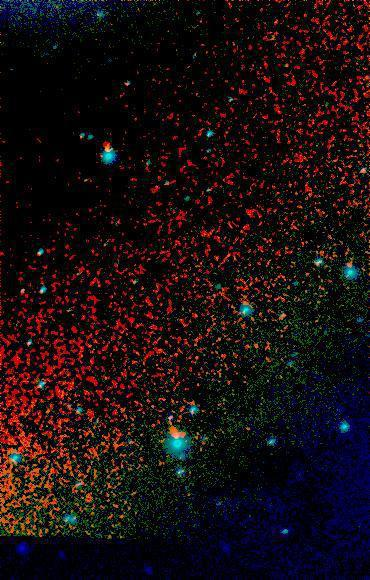star: (161, 418, 191, 448)
